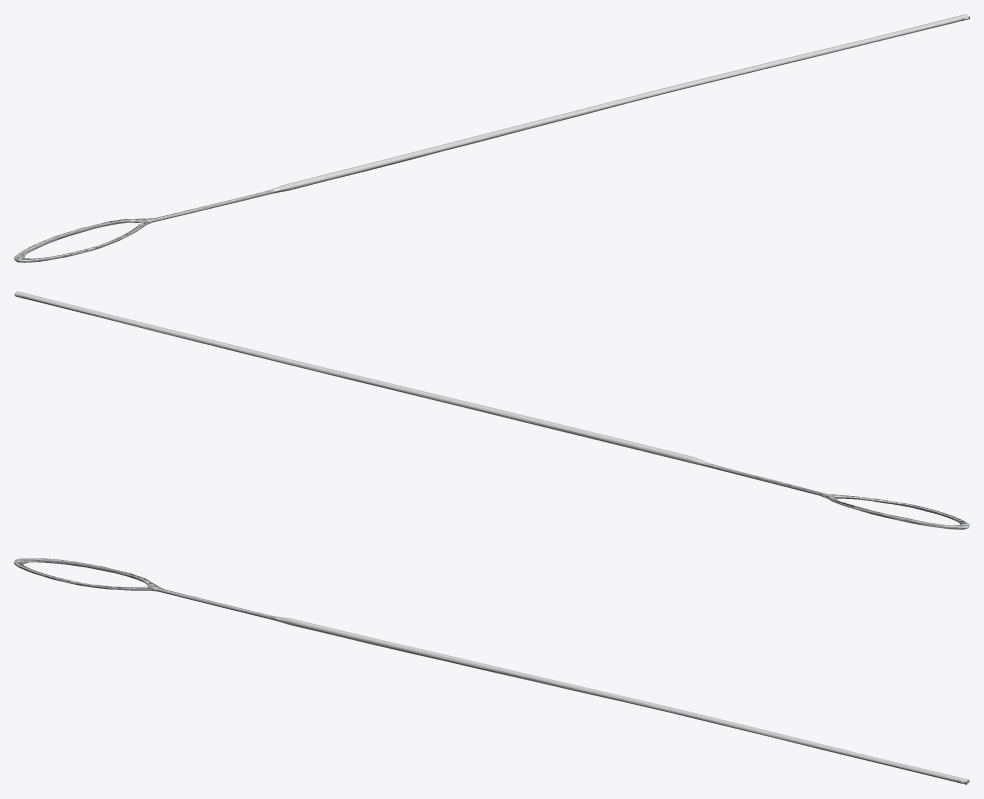
Rendered from catheter_004.glb.
3 renders of one model, top to bottom at view 1: azimuth 30°, elevation 25°; view 2: azimuth 150°, elevation 25°; view 3: azimuth 330°, elevation 25°, orthographic.
Visible parts, largest first — view 1: world.234; view 2: world.234; view 3: world.234.
Boxes of the visible parts, x1,y1,x2,y2 form: world.234: (14, 14, 969, 262); world.234: (14, 291, 969, 529); world.234: (14, 558, 969, 784).
Bounding box in the file's own units: 0.259 × 0.0026 × 0.01.
Materials: 1 (1 with a texture image).
